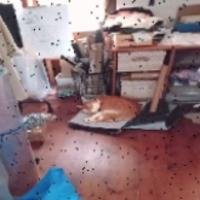asleep: (76, 94, 142, 123)
